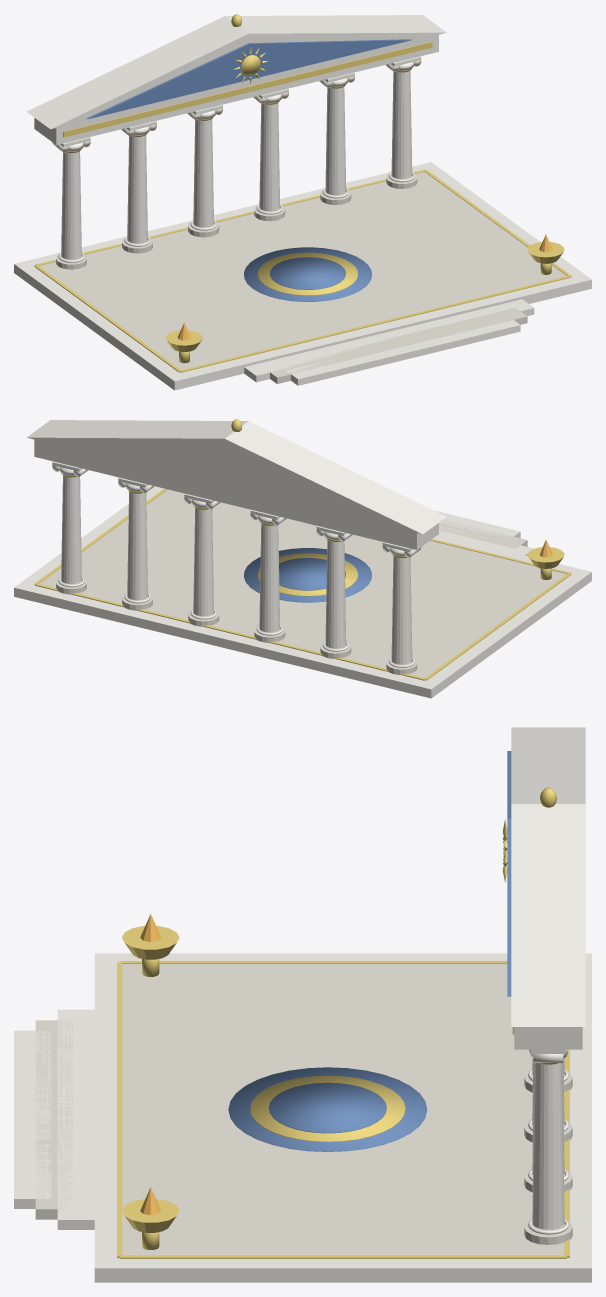
Rendered from olimpo_templo.glb.
3 views of the same model, one above another, from view 1: azimuth 30°, elevation 25°; view 2: azimuth 150°, elevation 25°; view 3: azimuth 270°, elevation 25° (orthographic). The views are drawn at different scales.
Visible parts, largest first — view 1: olimpo_templo; view 2: olimpo_templo; view 3: olimpo_templo.
Boxes of the visible parts, x1,y1,x2,y2 form: olimpo_templo: [14, 14, 591, 390]; olimpo_templo: [14, 419, 591, 698]; olimpo_templo: [14, 727, 591, 1282].
Bounding box in the file's own units: 24 × 11.96 × 18.6.
